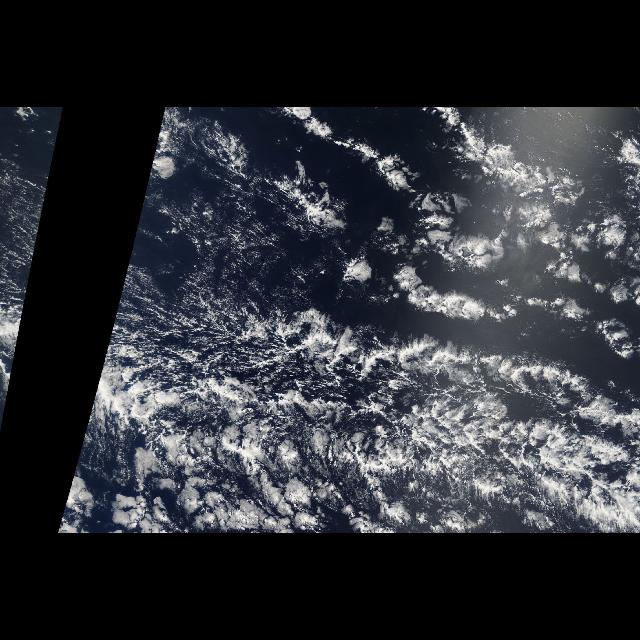Fish: (71, 312, 639, 482), (1, 312, 23, 433)
Flower: (341, 119, 637, 289)
